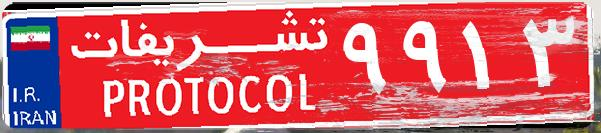1: (460, 20, 520, 115)
3: (520, 20, 580, 115)
9: (340, 20, 400, 115), (400, 20, 460, 115)
تشریفات: (60, 8, 340, 125)
